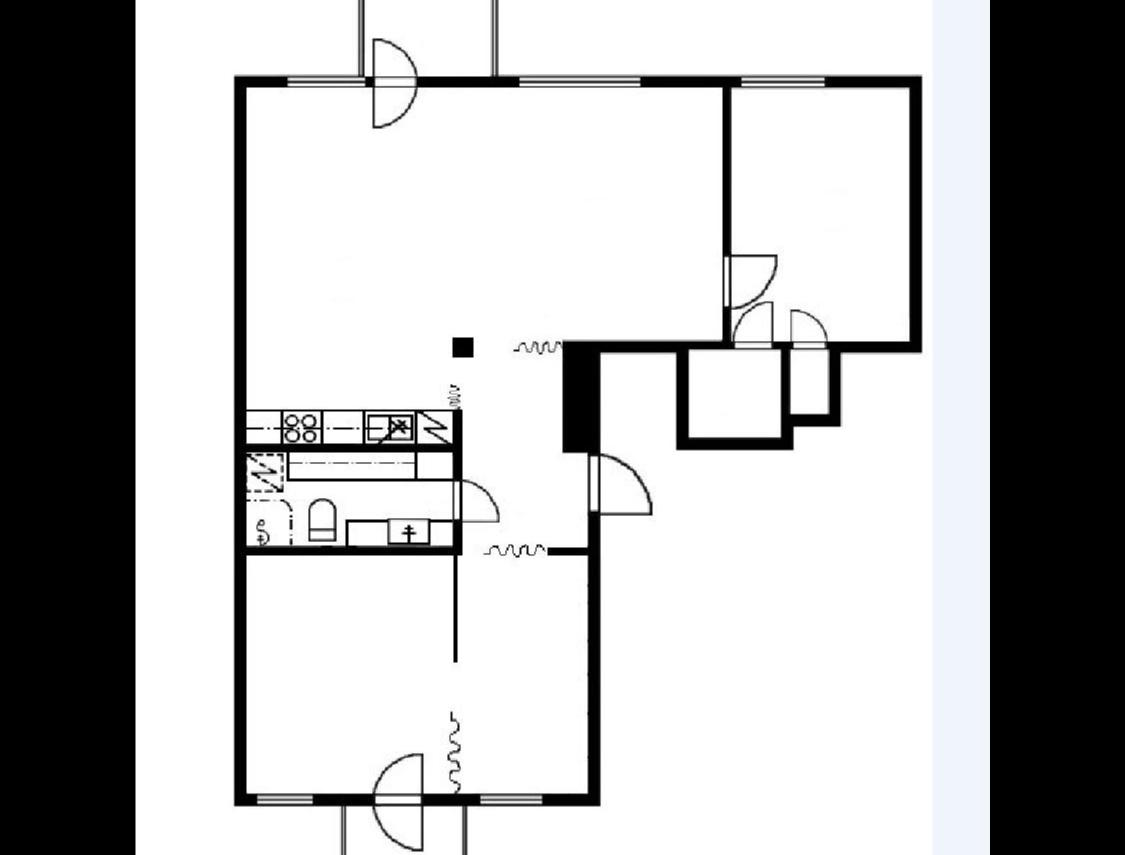door: (584, 453, 653, 520), (722, 247, 782, 311), (367, 750, 426, 808), (370, 794, 426, 853), (367, 75, 422, 132), (728, 294, 776, 350), (369, 34, 418, 88), (448, 480, 502, 524), (788, 305, 827, 353)
window: (510, 70, 646, 90), (734, 68, 832, 92), (280, 71, 366, 92), (470, 788, 552, 810), (245, 790, 318, 812)
